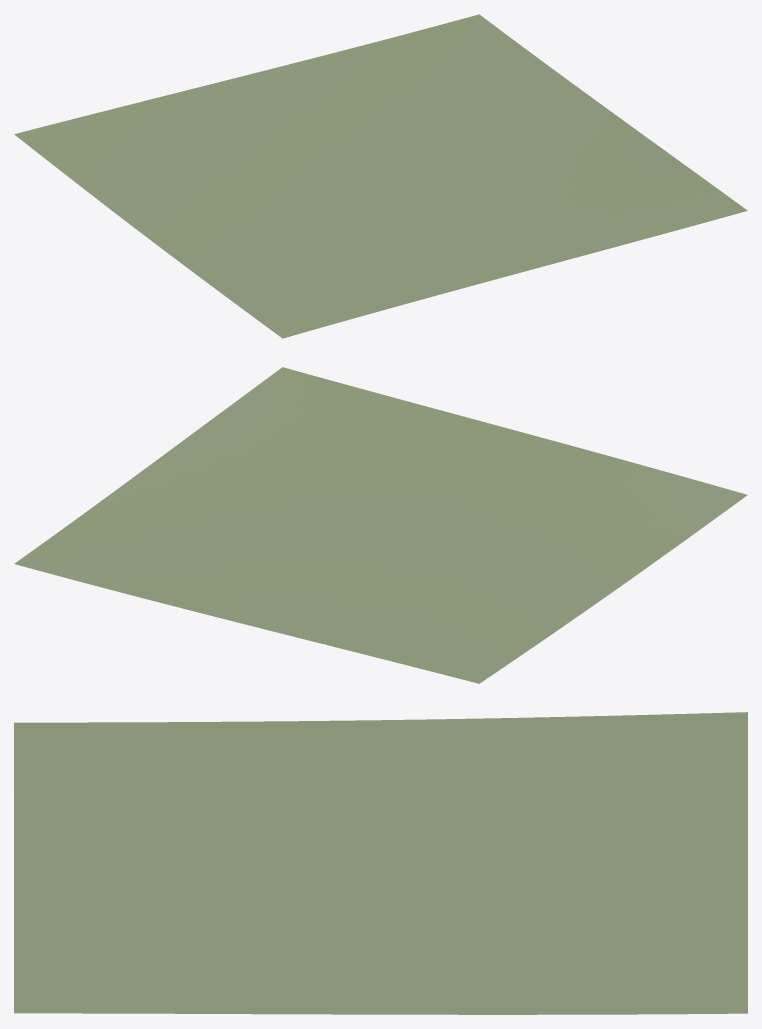
File: expanse-8-4.glb
The picture shows the model from 3 angles, top to bottom: view 1: azimuth 30°, elevation 25°; view 2: azimuth 150°, elevation 25°; view 3: azimuth 270°, elevation 25°; orthographic projection. The views are drawn at different scales.
Parts seen in each view (by area): view 1: expanse-8-4; view 2: expanse-8-4; view 3: expanse-8-4.
Part boxes in pixels (x1,y1,x2,y2): expanse-8-4: (14, 14, 747, 338); expanse-8-4: (14, 367, 747, 683); expanse-8-4: (14, 712, 747, 1014).
Size of the model in its own units: 256 by 7.52 by 256.
